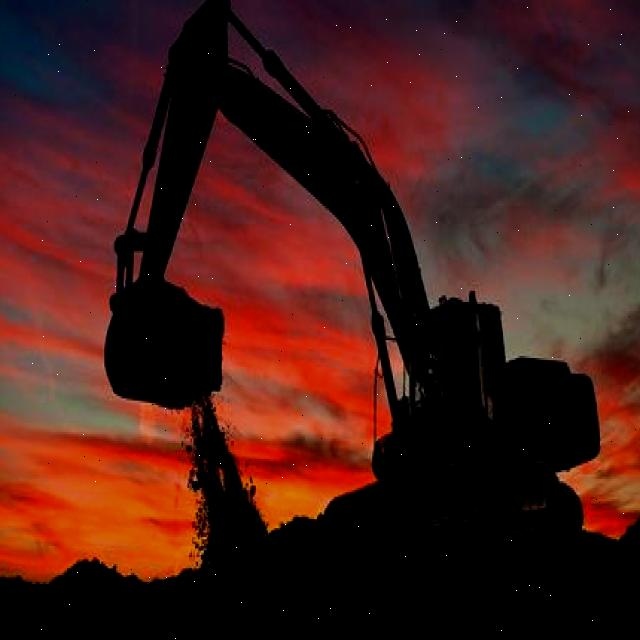Excavator: (102, 0, 602, 557)
